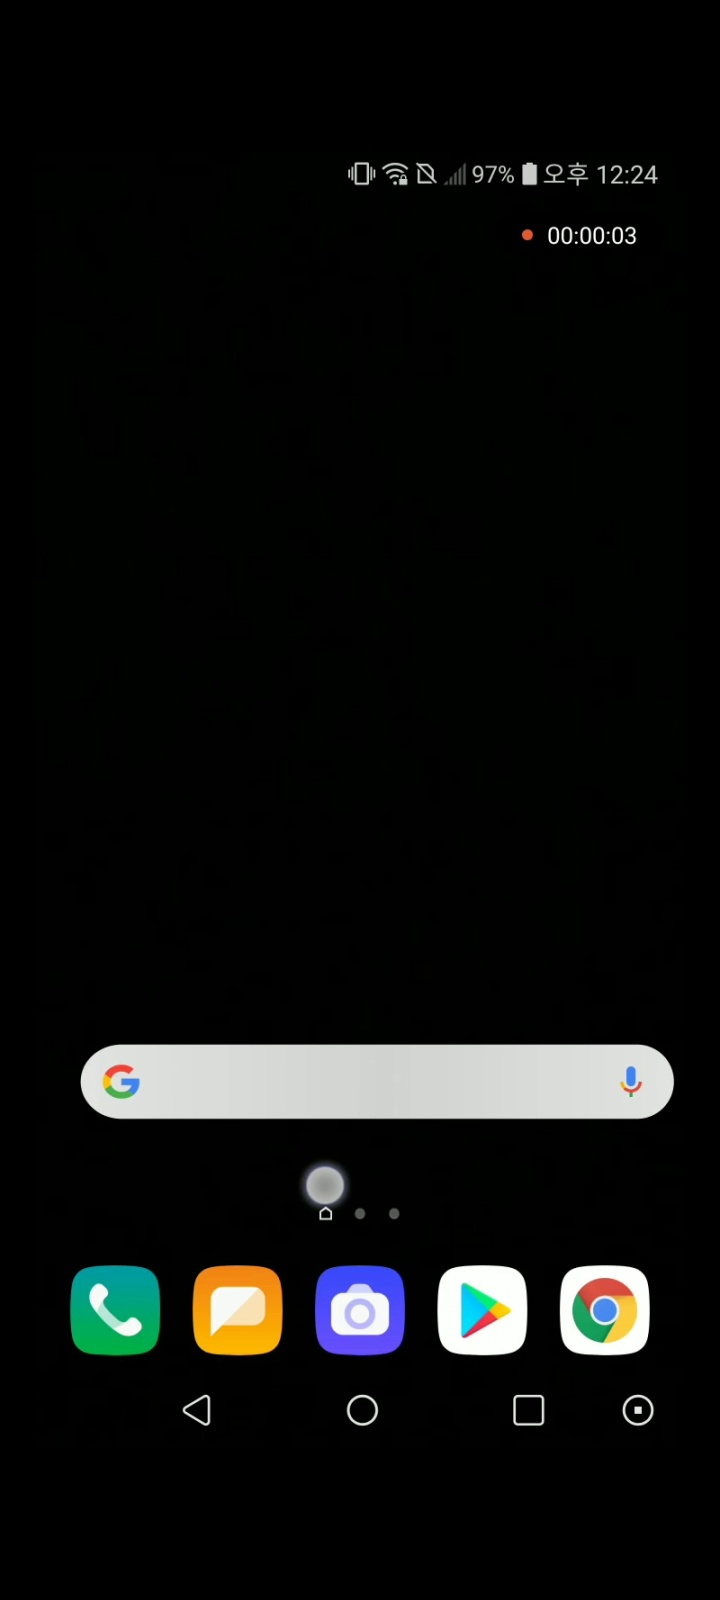Cursor: (304, 1164, 349, 1209)
